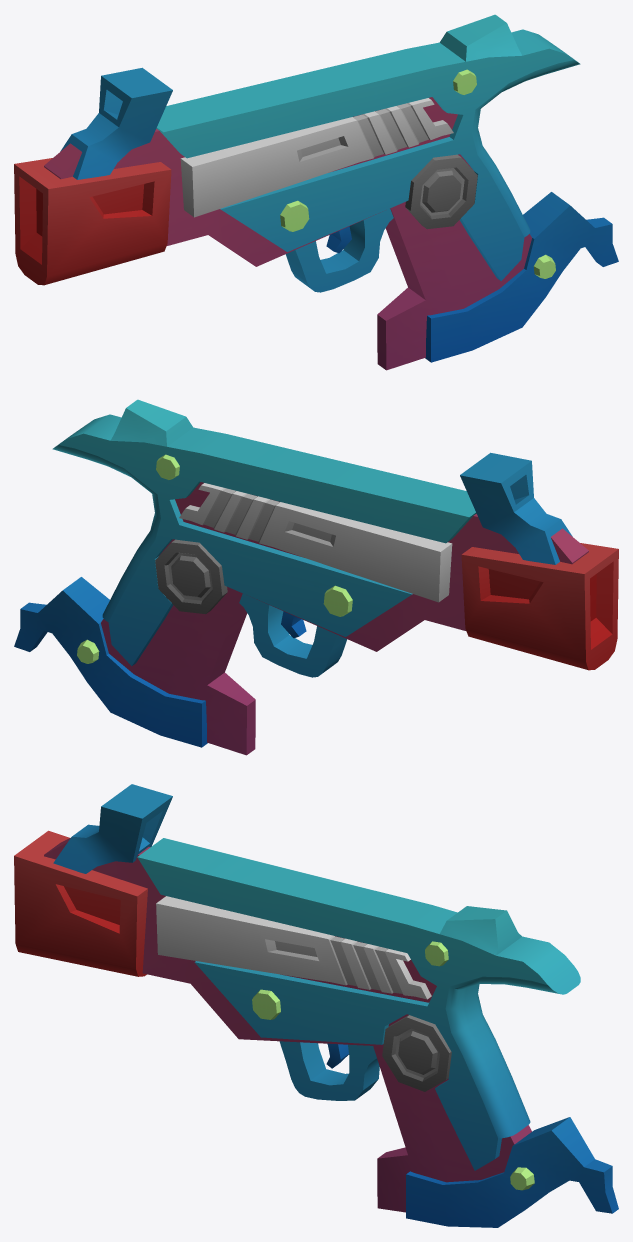
The model's file is Scifi Gun.glb.
3 renders of one model, top to bottom at view 1: azimuth 30°, elevation 25°; view 2: azimuth 150°, elevation 25°; view 3: azimuth 330°, elevation 25°, orthographic.
Parts seen in each view (by area): view 1: Cube; view 2: Cube; view 3: Cube.
Part boxes in pixels (x1,y1,x2,y2): Cube: [14, 14, 618, 370]; Cube: [14, 399, 618, 755]; Cube: [14, 784, 618, 1227].
Bounding box in the file's own units: 0.8869 × 0.5003 × 0.0953.
Materials: 1 (1 with a texture image).
